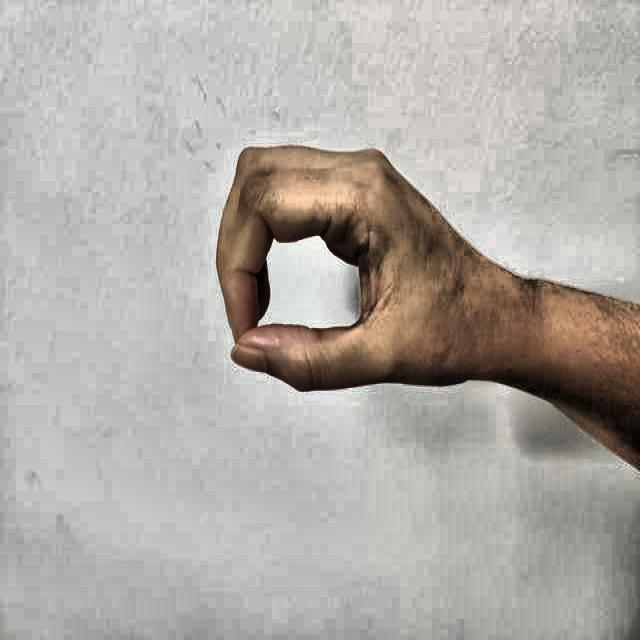O: (196, 116, 490, 446)
